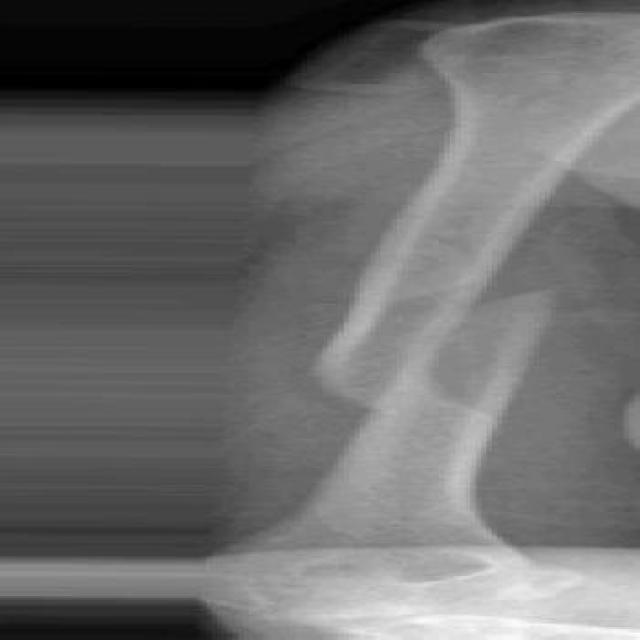Fracture: (313, 272, 596, 405)
